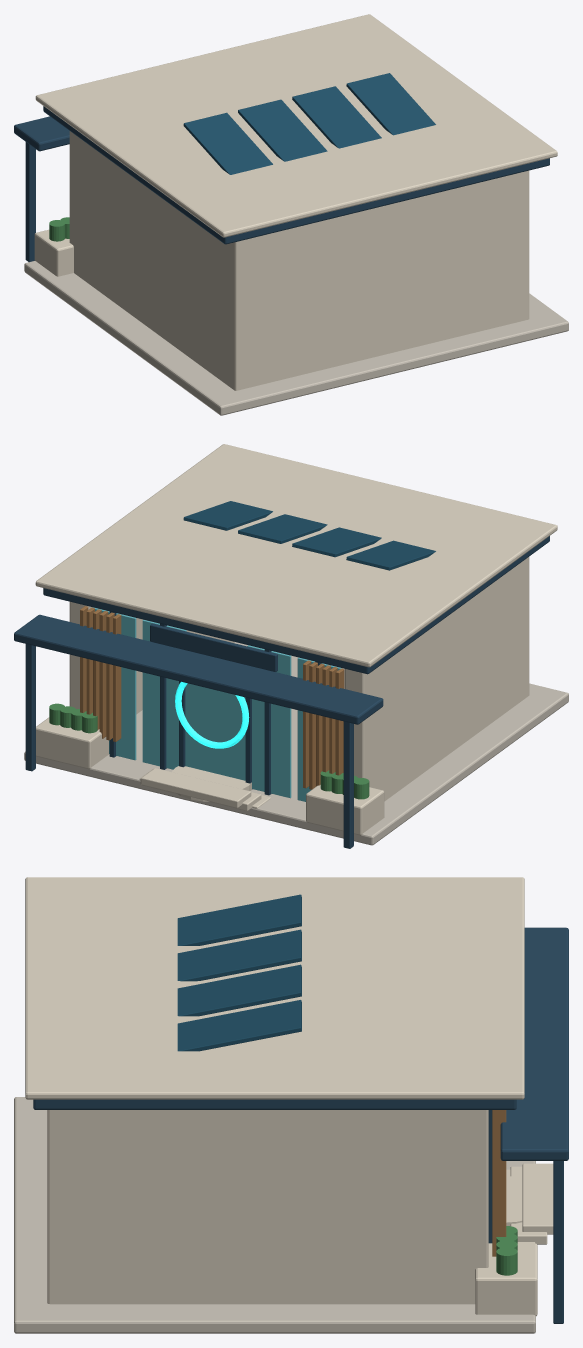
Rendered from layout-prototype.glb.
The picture shows the model from 3 angles, top to bottom: view 1: azimuth 30°, elevation 25°; view 2: azimuth 150°, elevation 25°; view 3: azimuth 270°, elevation 25°; orthographic projection. The views are drawn at different scales.
Visible parts, largest first — view 1: Limestone roof cap, Rear wall, Side pier, Paved plinth, Navy roof, Solar panel.002, Solar panel.003, Solar panel.001, Solar panel, Planter, Veranda roof, Veranda column; view 2: Limestone roof cap, Side pier, Paved plinth, Veranda roof, Entry glass, Navy roof, Window.001, Window.002, Planter.001, Studio sign band, Planter, Entry step.002 (+27 smaller); view 3: Limestone roof cap, Side pier.001, Paved plinth, Veranda roof, Navy roof, Solar panel.001, Solar panel.002, Solar panel.003, Solar panel, Rear wall, Planter.001, Entry step.002 (+6 smaller).
Boxes of the visible parts, x1,y1,x2,y2 form: Limestone roof cap: [35, 14, 557, 237]; Rear wall: [227, 170, 529, 390]; Side pier: [69, 131, 228, 386]; Paved plinth: [24, 261, 568, 415]; Navy roof: [43, 106, 549, 244]; Solar panel.002: [292, 86, 381, 148]; Solar panel.003: [346, 73, 435, 135]; Solar panel.001: [238, 99, 327, 161]; Solar panel: [183, 112, 272, 174]; Planter: [34, 229, 73, 276]; Veranda roof: [14, 116, 69, 151]; Veranda column: [25, 142, 35, 261]; Limestone roof cap: [35, 444, 557, 667]; Side pier: [344, 561, 523, 801]; Paved plinth: [24, 642, 568, 845]; Veranda roof: [14, 614, 383, 724]; Entry glass: [185, 683, 245, 780]; Navy roof: [43, 536, 549, 674]; Window.001: [247, 645, 291, 798]; Window.002: [142, 619, 186, 769]; Planter.001: [36, 717, 108, 769]; Studio sign band: [150, 623, 277, 671]; Planter: [306, 785, 384, 835]; Entry step.002: [141, 768, 251, 808]; Limestone roof cap: [25, 877, 524, 1099]; Side pier.001: [64, 1110, 488, 1304]; Paved plinth: [14, 1097, 535, 1333]; Veranda roof: [500, 927, 568, 1160]; Navy roof: [33, 1099, 516, 1109]; Solar panel.001: [177, 929, 301, 981]; Solar panel.002: [177, 964, 301, 1016]; Solar panel.003: [177, 1000, 301, 1051]; Solar panel: [177, 894, 301, 945]; Rear wall: [47, 1110, 67, 1304]; Planter.001: [475, 1243, 537, 1316]; Entry step.002: [522, 1163, 553, 1234].
Size of the model in its own units: 9 by 4.85 by 9.36.
